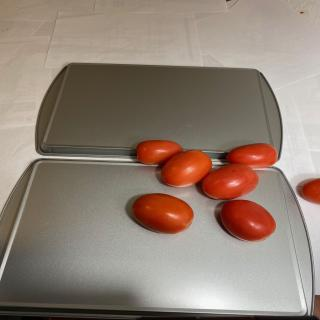Tomato: (131, 193, 194, 234), (220, 199, 276, 242), (202, 163, 259, 200), (161, 150, 212, 188), (226, 143, 278, 168), (136, 140, 183, 165), (301, 178, 320, 205)
